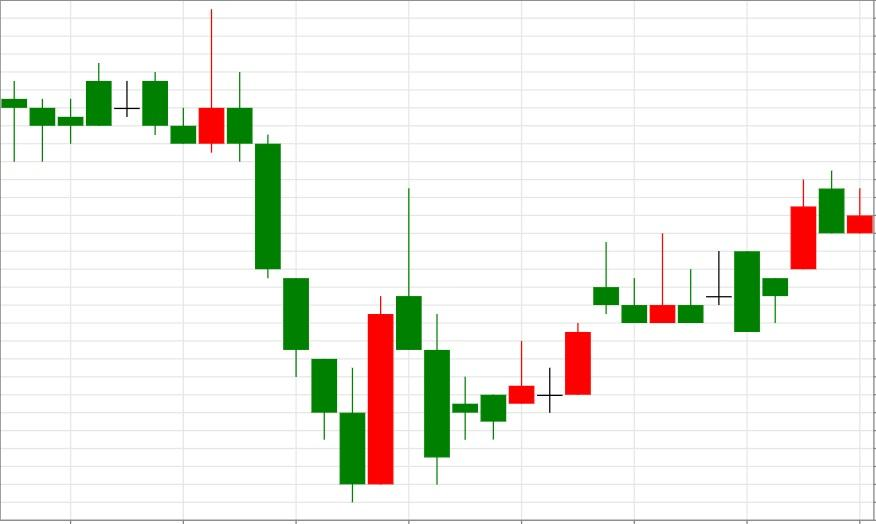shooting_star_fall: (423, 242, 621, 484), (338, 187, 423, 503)
